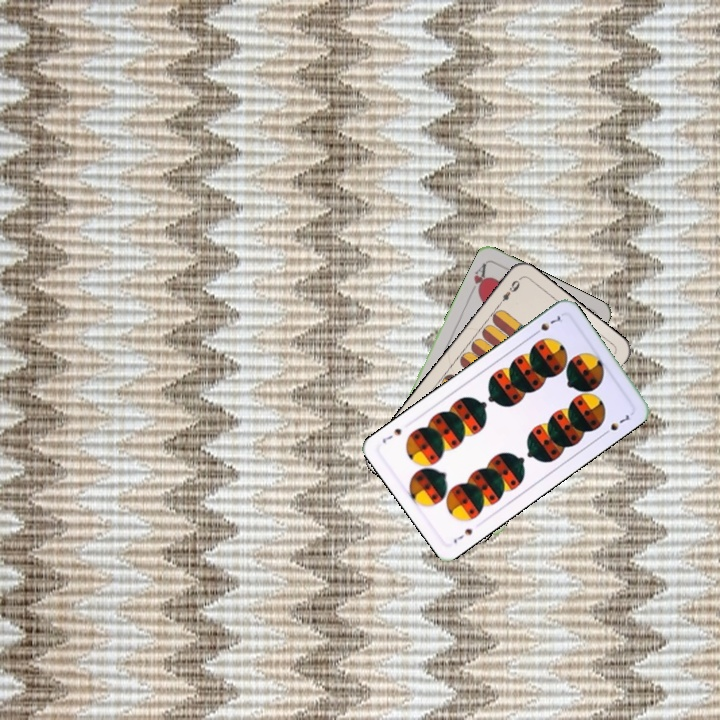E9: (493, 276, 523, 309)
HA: (466, 259, 490, 298)
S7: (529, 312, 563, 338), (449, 524, 475, 546)
